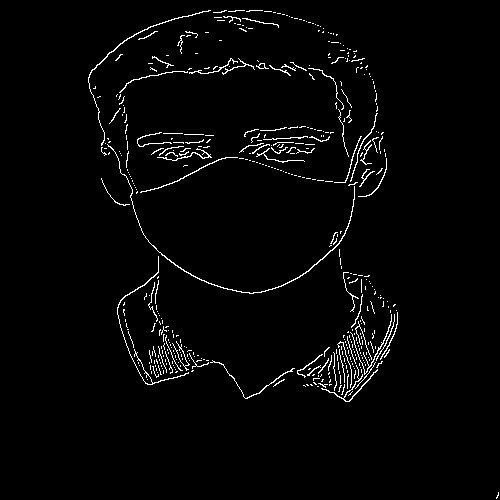mask: (132, 168, 357, 295)
